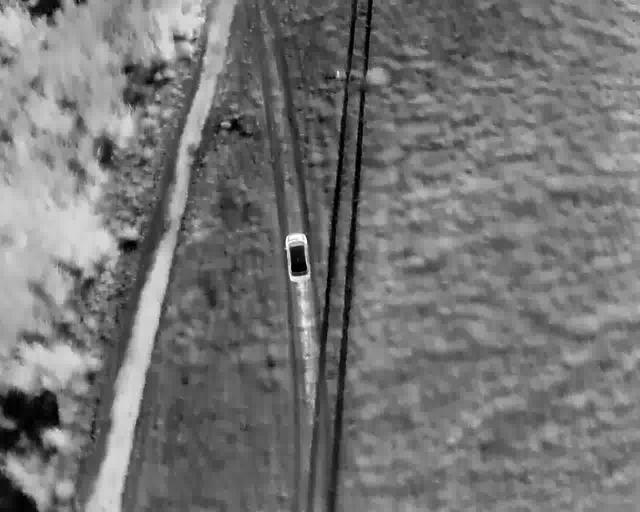car: (283, 232, 311, 282)
